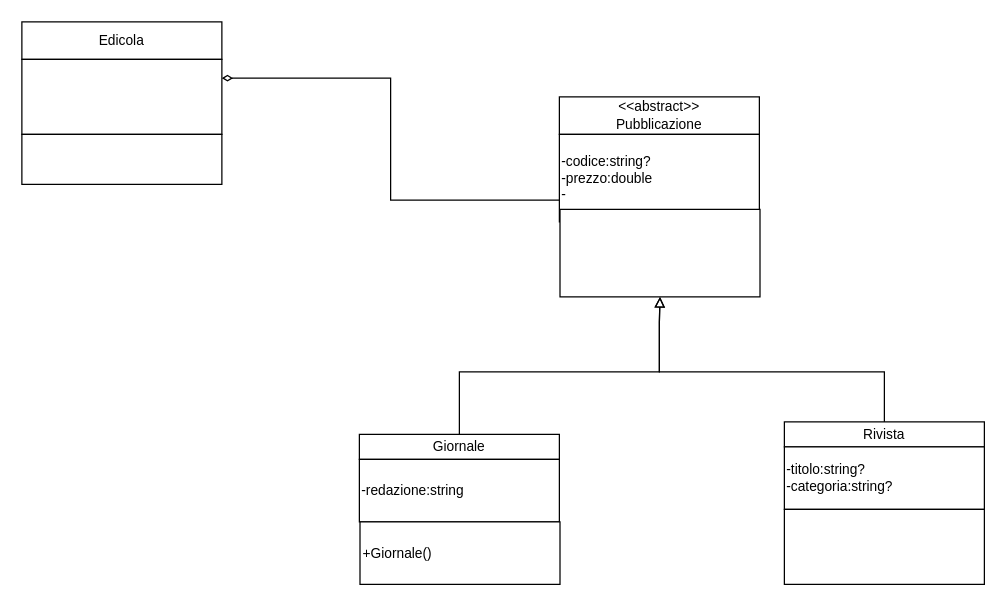
Image size: 1006x606. Some labels were removed from this diagram. The shapes that lost their labels are listed below. From the top down, each one's centre as x and y in pixels, then its label:
At [121,96]: "-nome:string -indirizzo:string? -magazzino:[Pubblicazione]".
At [121,158]: "+Edicola()".
At [659,252]: "+Pubblicazione()".
At [883,546]: "+Rivista()".
